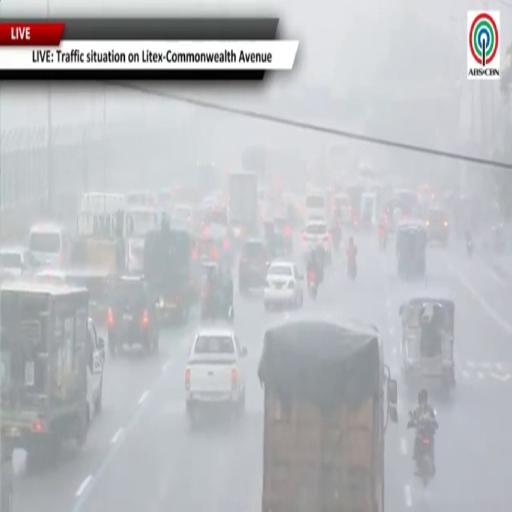car: (185, 327, 247, 423), (107, 276, 159, 356), (264, 261, 303, 310), (86, 318, 105, 413), (239, 238, 270, 293), (302, 220, 332, 261), (0, 246, 38, 277), (426, 207, 449, 246), (274, 216, 293, 253)
motorcycle: (408, 412, 436, 486), (201, 295, 233, 323), (307, 271, 318, 299), (348, 259, 356, 280), (466, 237, 474, 257), (333, 232, 341, 251), (379, 231, 387, 250)
truck: (258, 320, 397, 511), (0, 281, 92, 469), (228, 172, 259, 238)
